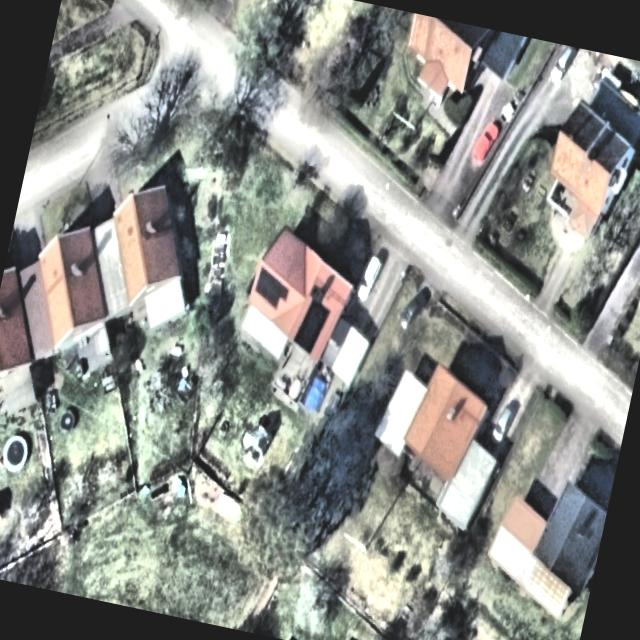roof_pv: (290, 297, 330, 357), (251, 264, 293, 315)
